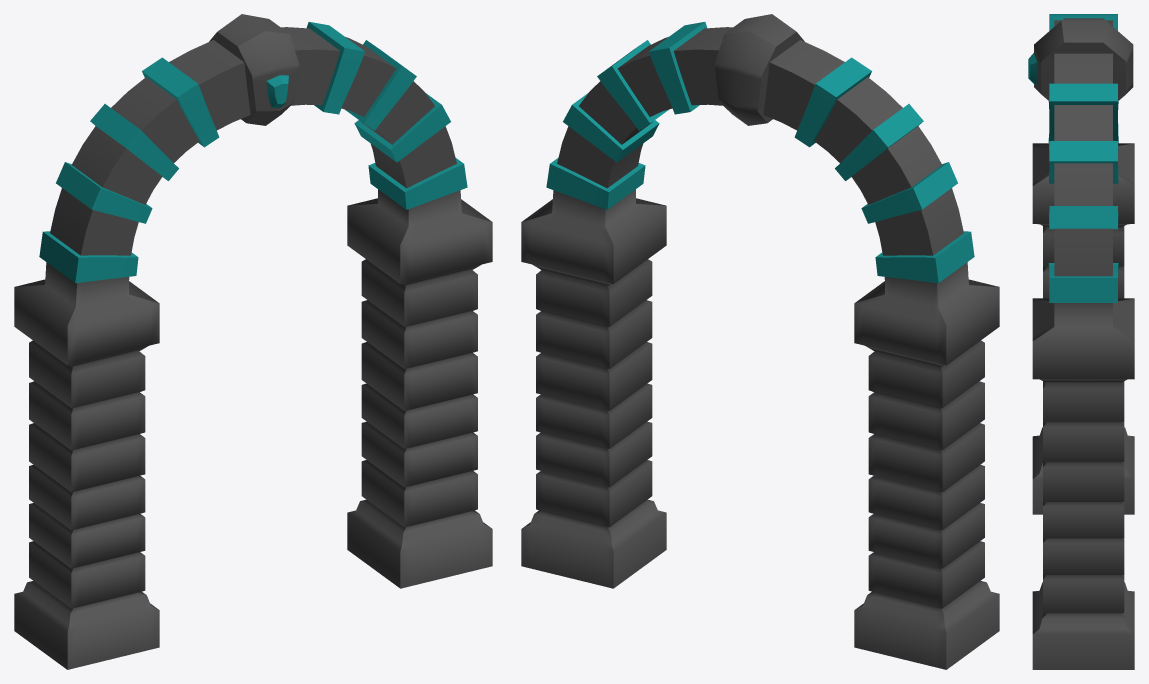
The model's file is ArcoDePiedraMSv23.fbx.
3 renders of one model, left to right at view 1: azimuth 30°, elevation 25°; view 2: azimuth 150°, elevation 25°; view 3: azimuth 270°, elevation 25°, orthographic. The views are drawn at different scales.
Visible parts, largest first — view 1: Box001; view 2: Box001; view 3: Box001.
Boxes of the visible parts, bbox=[...] form: Box001: bbox=[14, 14, 492, 669]; Box001: bbox=[521, 14, 999, 669]; Box001: bbox=[1028, 14, 1134, 669].
Bounding box in the file's own units: 46.07 × 59.63 × 10.43.
